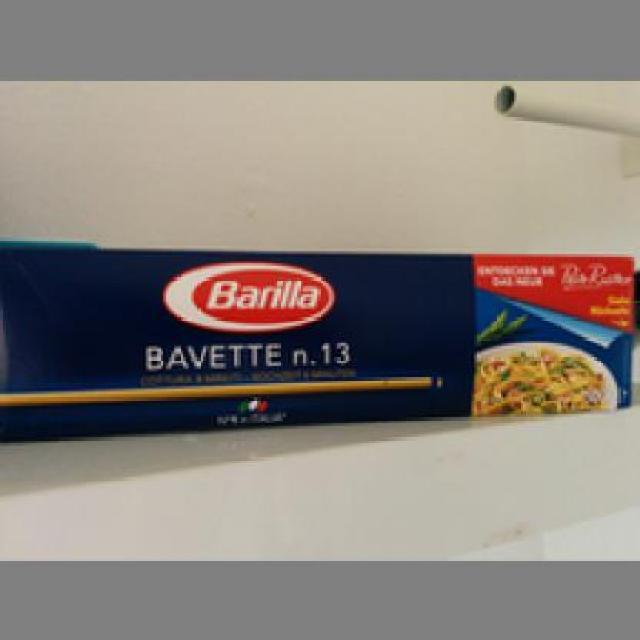Pasta: (0, 237, 637, 446)
